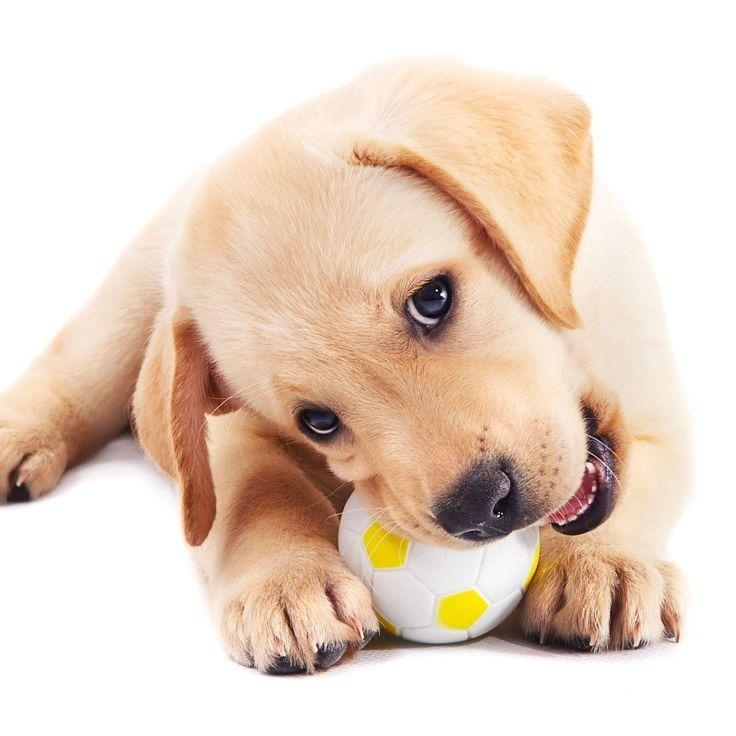puppy-dog: (2, 59, 691, 674)
